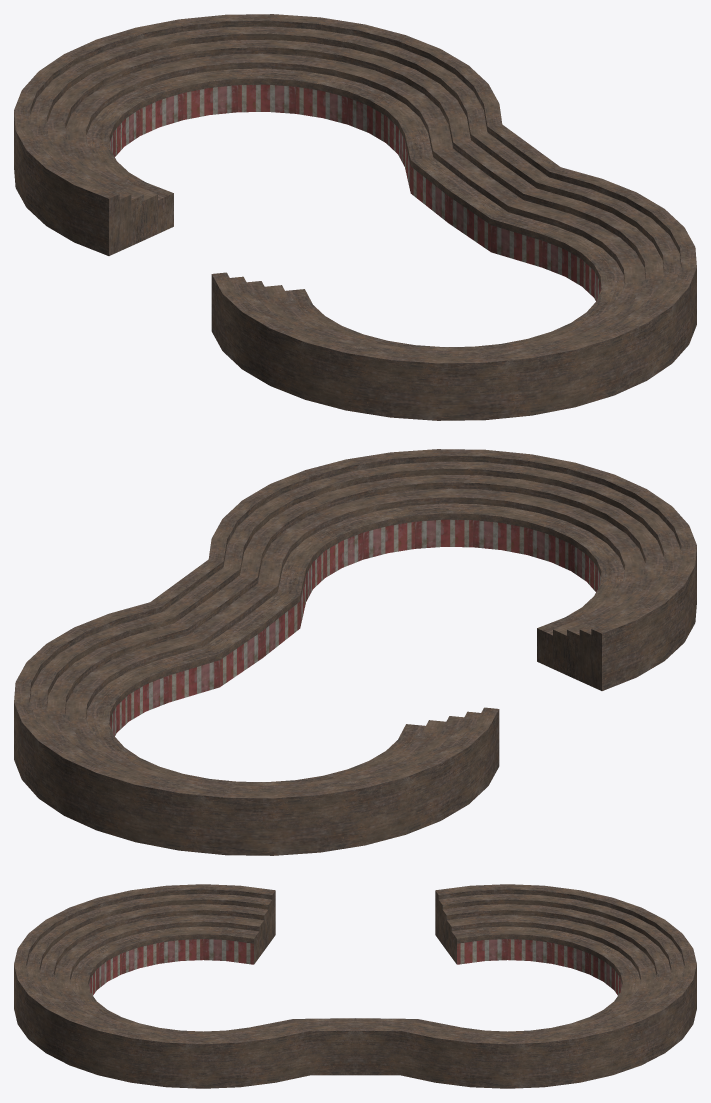
Rendered from SM_TentSeating.fbx.
3 views of the same model, one above another, from view 1: azimuth 30°, elevation 25°; view 2: azimuth 150°, elevation 25°; view 3: azimuth 270°, elevation 25° (orthographic). The views are drawn at different scales.
Visible parts, largest first — view 1: SM_TentSeating_LOD0; view 2: SM_TentSeating_LOD0; view 3: SM_TentSeating_LOD0.
Boxes of the visible parts, bbox=[...] form: SM_TentSeating_LOD0: bbox=[14, 14, 696, 420]; SM_TentSeating_LOD0: bbox=[14, 449, 696, 855]; SM_TentSeating_LOD0: bbox=[14, 884, 696, 1088].
Bounding box in the file's own units: 2204 × 3975 × 286.
Materials: 2 (2 with a texture image).
